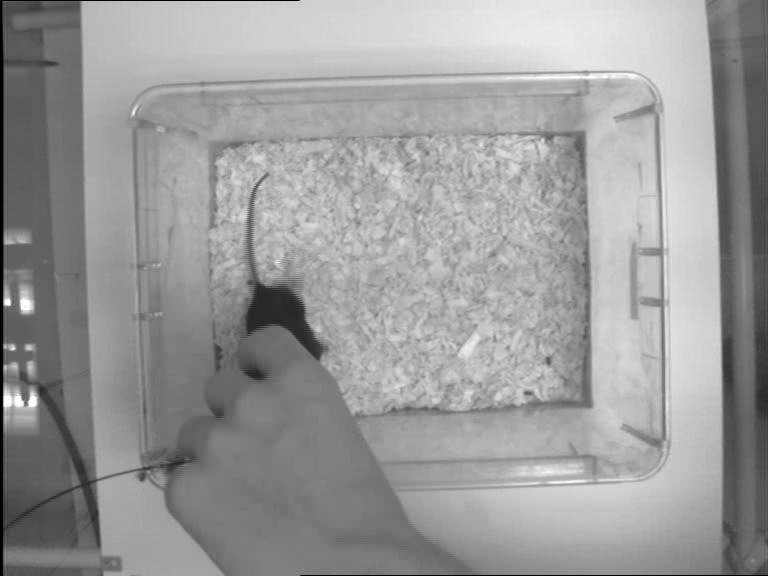mice: (243, 171, 333, 369)
